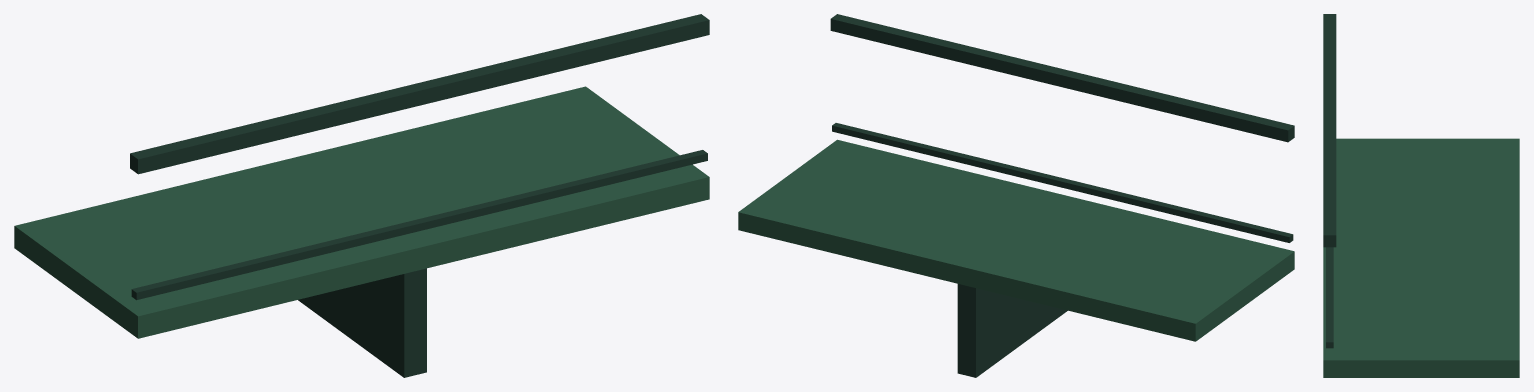
Rendered from arcade-gallery.glb.
The picture shows the model from 3 angles, left to right: view 1: azimuth 30°, elevation 25°; view 2: azimuth 150°, elevation 25°; view 3: azimuth 270°, elevation 25°; orthographic projection. The views are drawn at different scales.
Parts seen in each view (by area): view 1: arcade-gallery; view 2: arcade-gallery; view 3: arcade-gallery.
Boxes of the visible parts, x1,y1,x2,y2 form: arcade-gallery: (14,14,709,377); arcade-gallery: (738,14,1294,377); arcade-gallery: (1323,14,1519,377).
Bounding box in the file's own units: 4 × 1.95 × 1.5.
